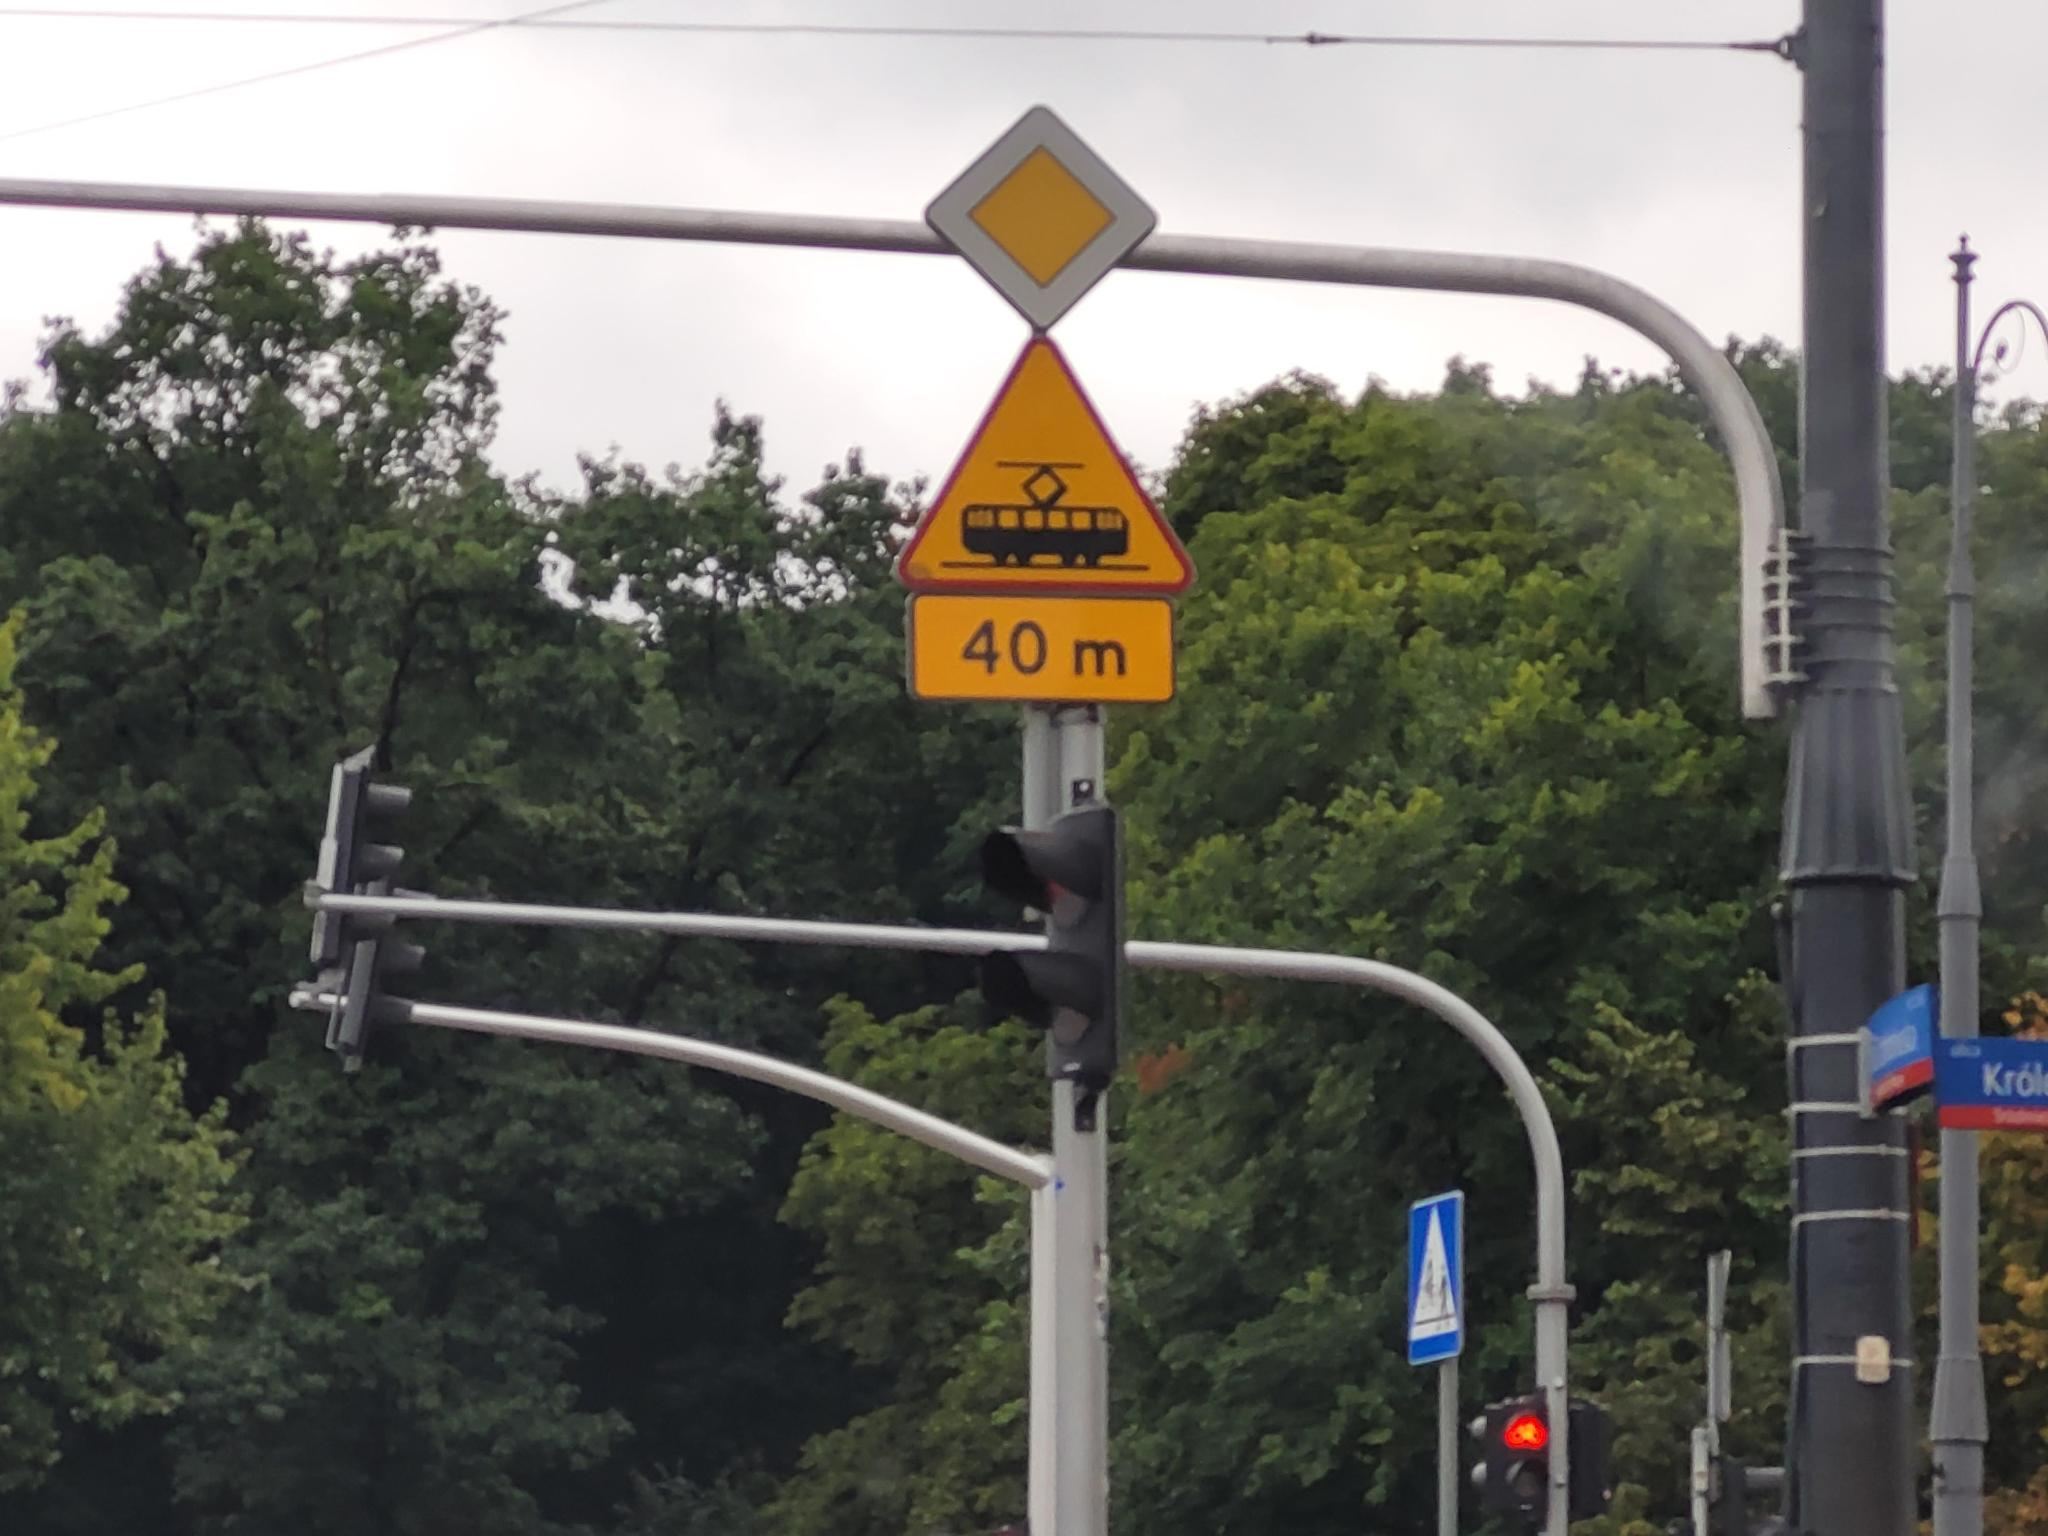information: (919, 102, 1161, 334), (1409, 1199, 1458, 1359)
other: (911, 599, 1177, 703)
warning: (895, 334, 1193, 591)
